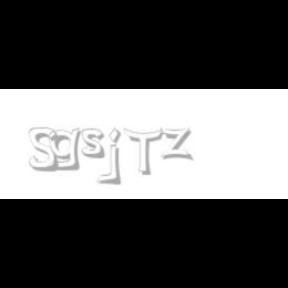S: (29, 128, 60, 172)
T: (123, 128, 163, 176)
g: (48, 128, 84, 171)
j: (106, 128, 136, 186)
s: (81, 128, 109, 160)
z: (159, 128, 195, 160)
